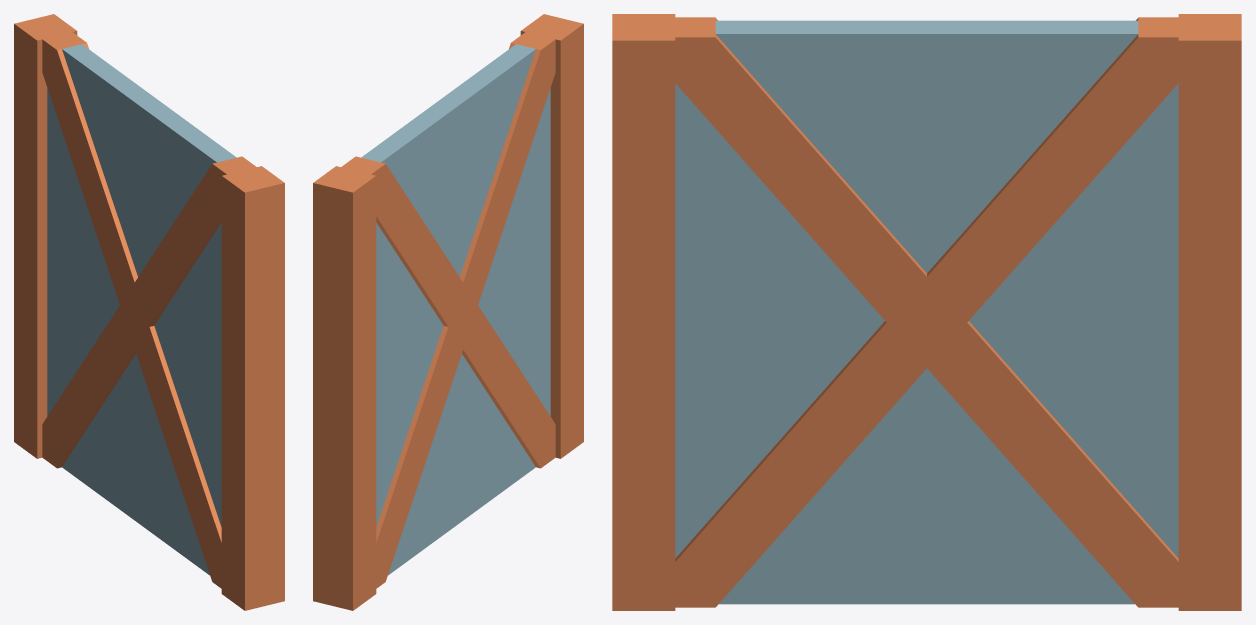
File: wallDetailCross.obj
The picture shows the model from 3 angles, left to right: view 1: azimuth 30°, elevation 25°; view 2: azimuth 150°, elevation 25°; view 3: azimuth 270°, elevation 25°; orthographic projection. The views are drawn at different scales.
Visible parts, largest first — view 1: wallDetailCross; view 2: wallDetailCross; view 3: wallDetailCross.
Boxes of the visible parts, box(x1,y1,x2,y2) form: wallDetailCross: box(14, 14, 284, 610); wallDetailCross: box(313, 14, 583, 610); wallDetailCross: box(612, 14, 1241, 610).
Size of the model in its own units: 0.1 by 1 by 1.
